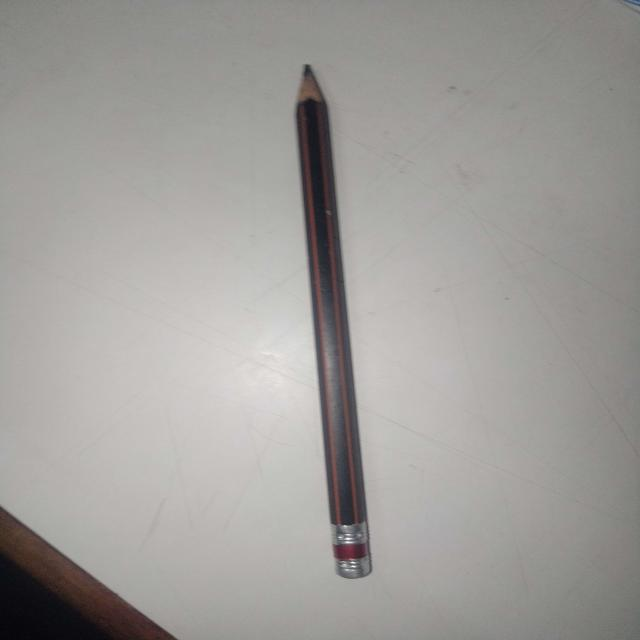pen_pencil: (238, 47, 465, 608)
